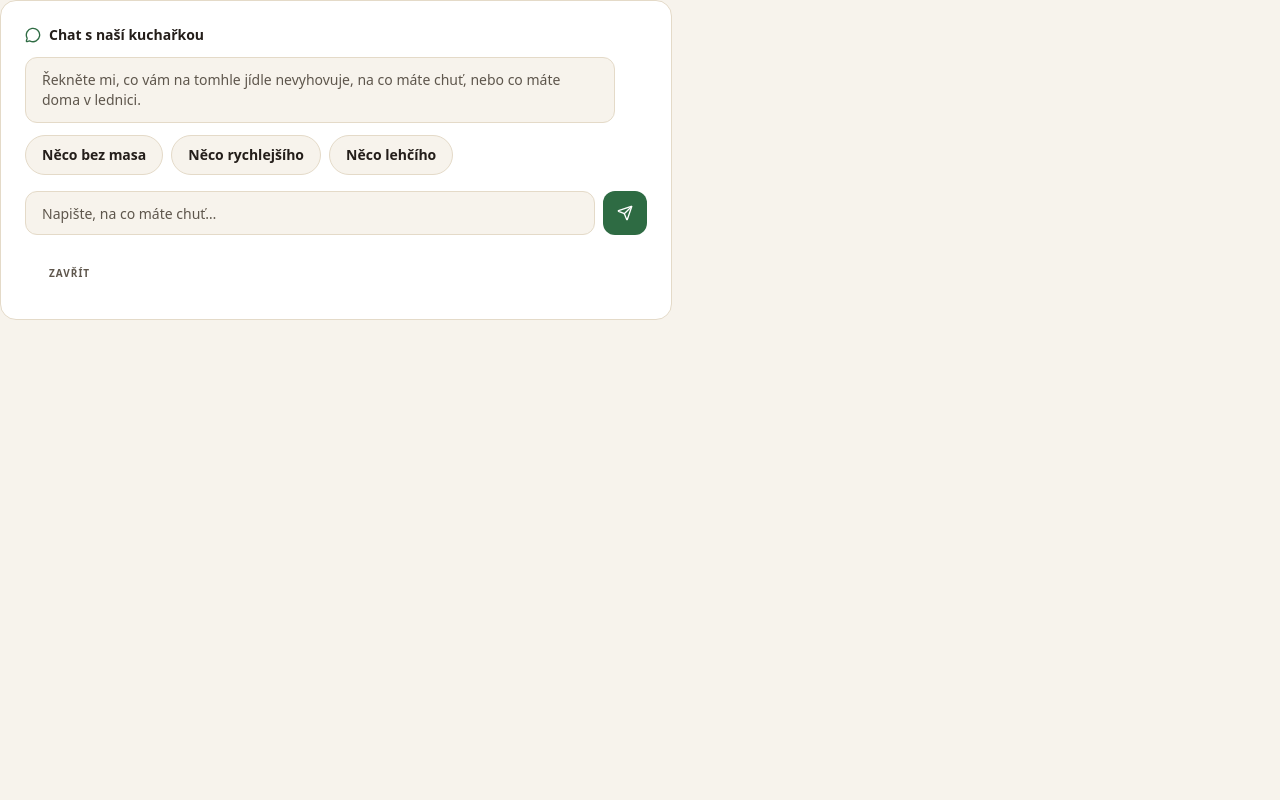
Test: RecipeRefineChat › a failed turn preserves state and restores the draft for retry
In the field with placeholder "Napište, na co máte chuť…": (310, 213) [25, 191, 595, 235], type "něco s kuřecím"
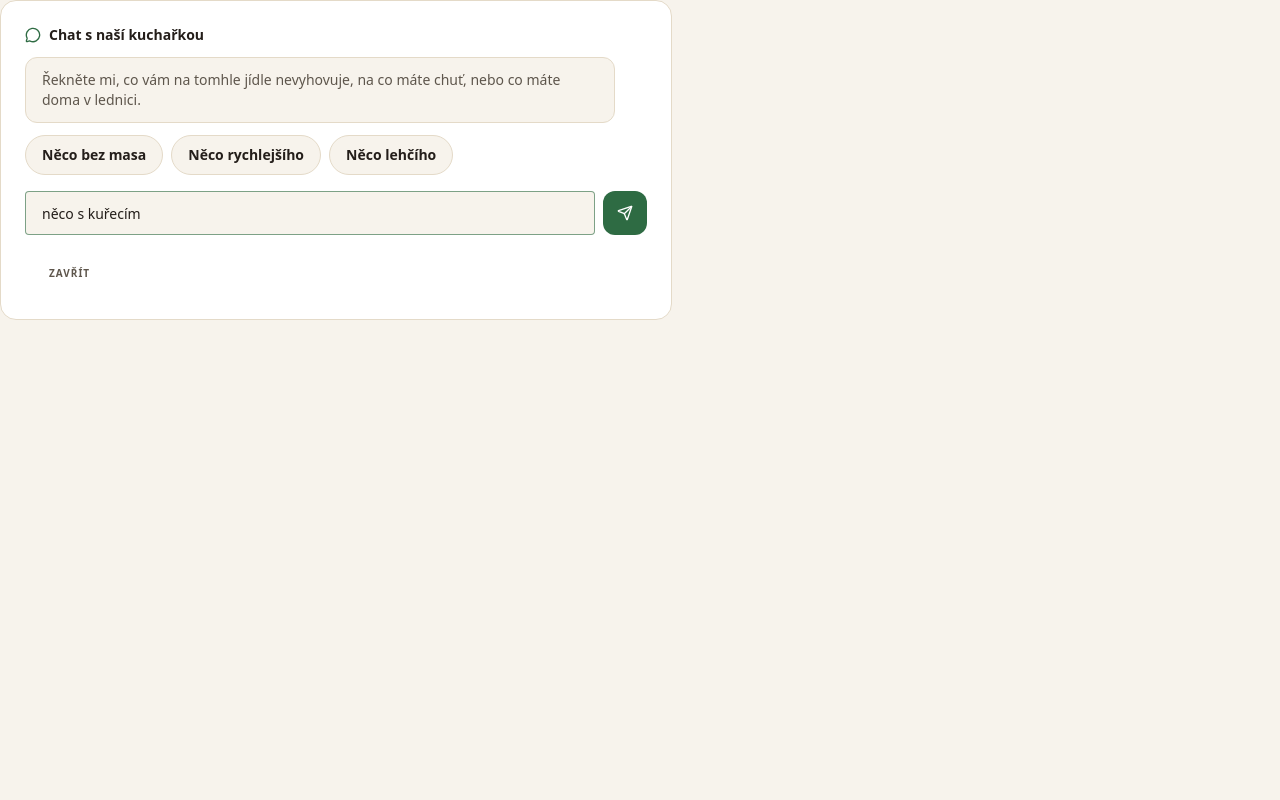
Click the button named "Odeslat": (625, 213) [603, 191, 647, 235]
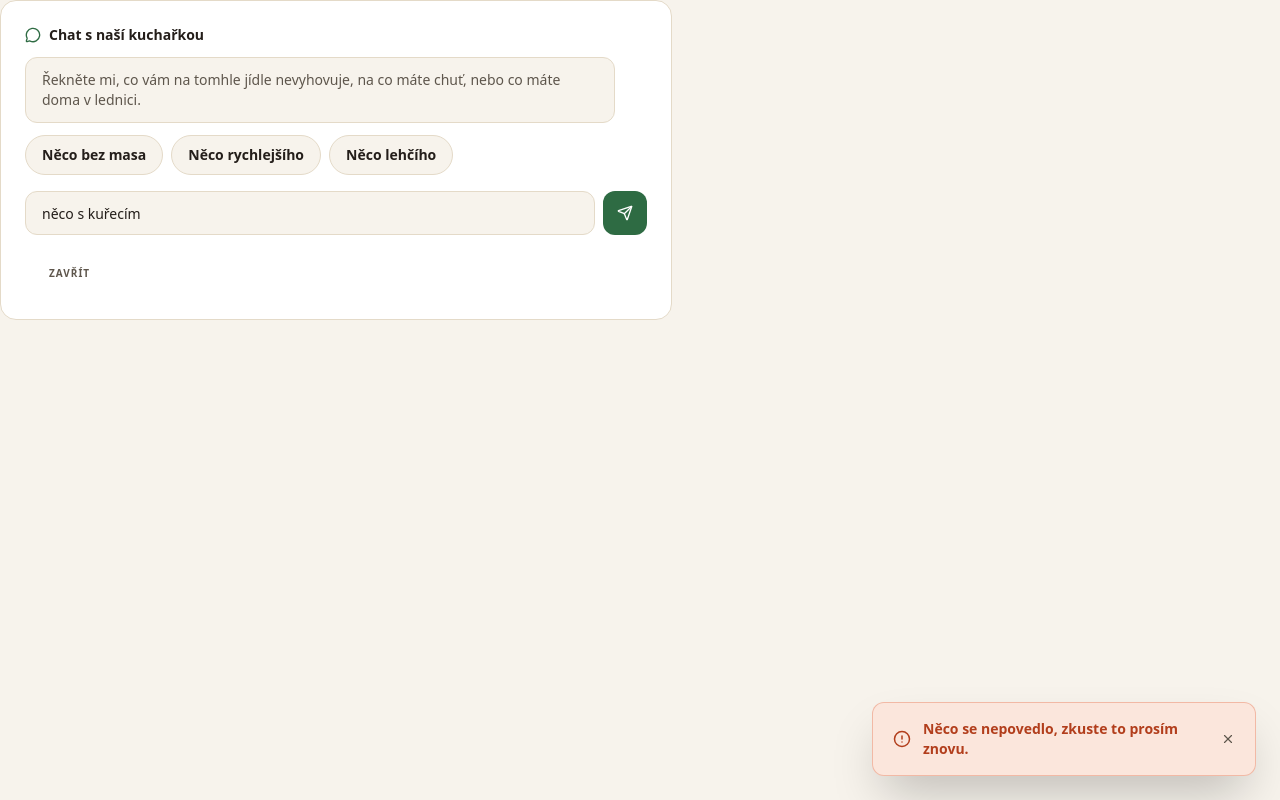
Expected: the text "Něco se nepovedlo, zkuste to prosím znovu." is shown, [923, 719, 1209, 759]
